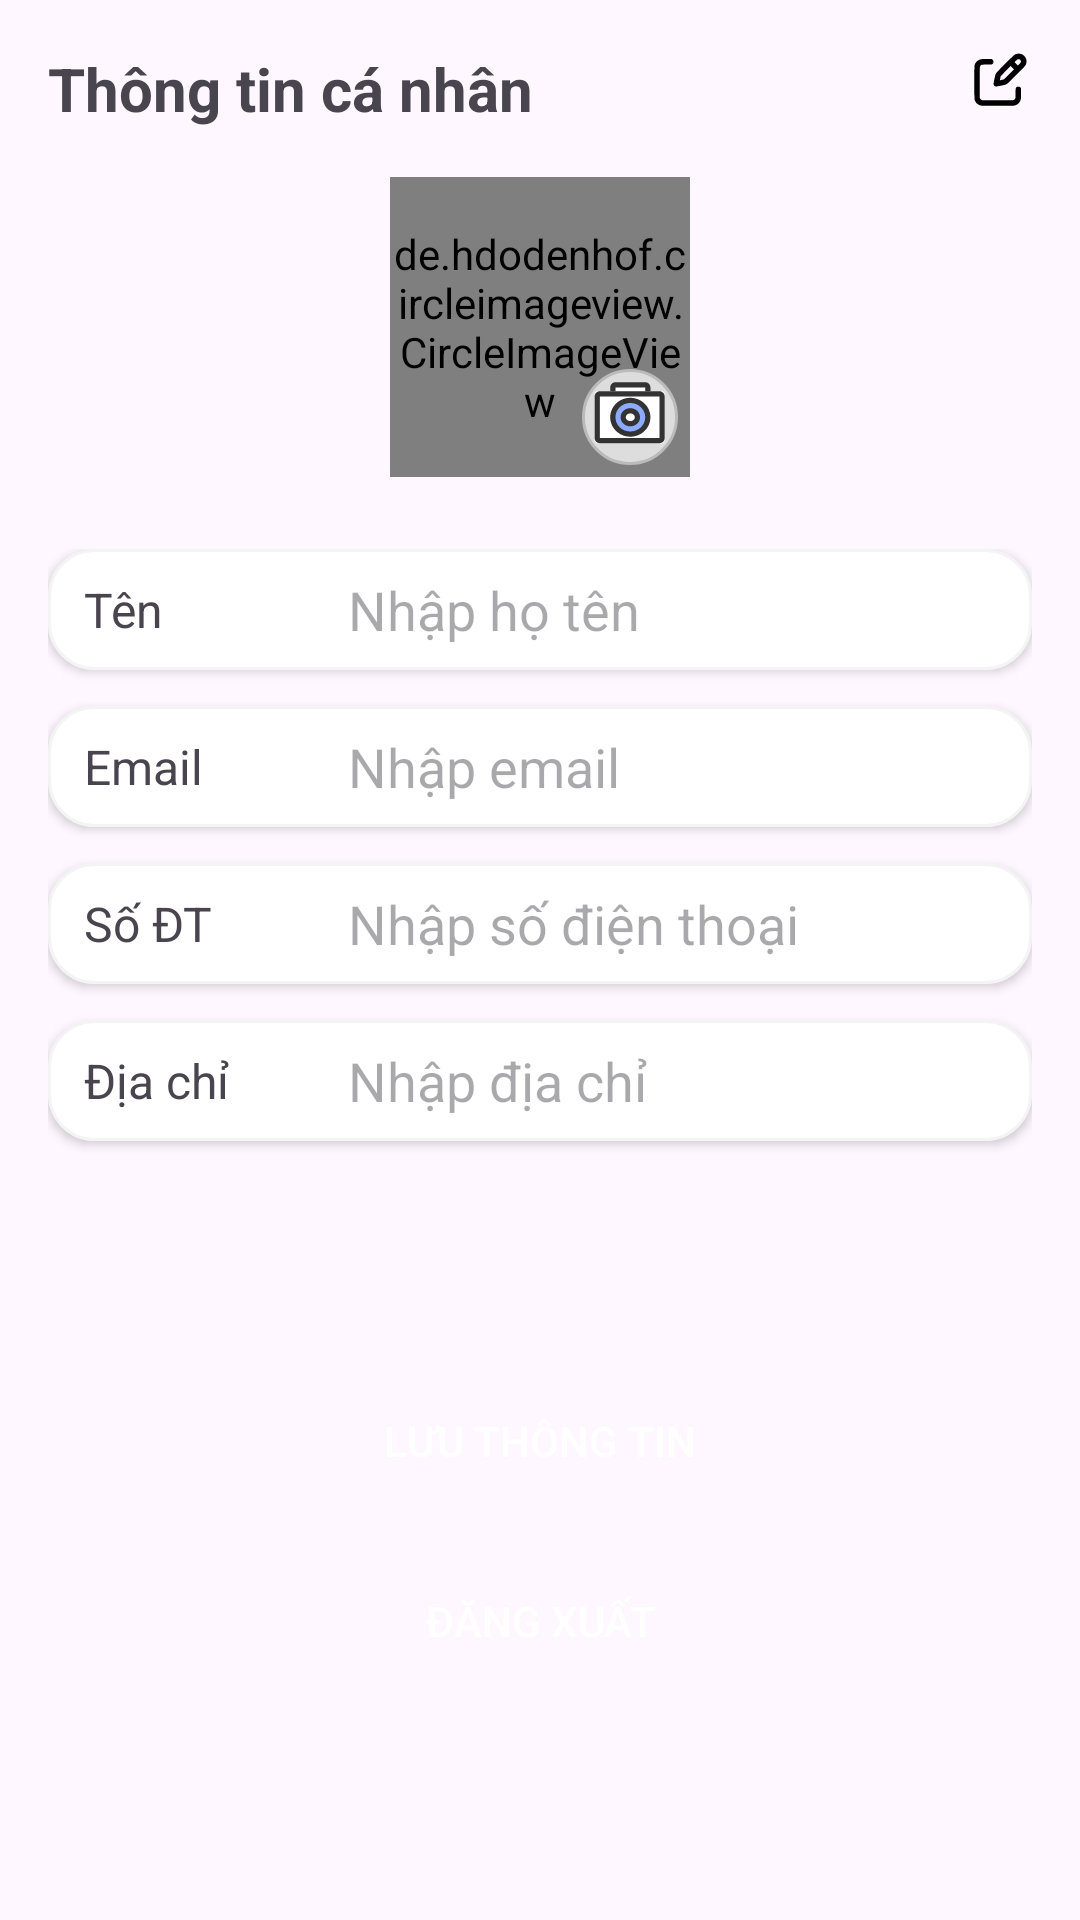

Locate icon controls on the screen. Image size 1080w x 1920h, boxes as (x1,y1,x2,y2).
Edit: (974,53,1027,106)
Edit avatar: (582,369,678,465)
